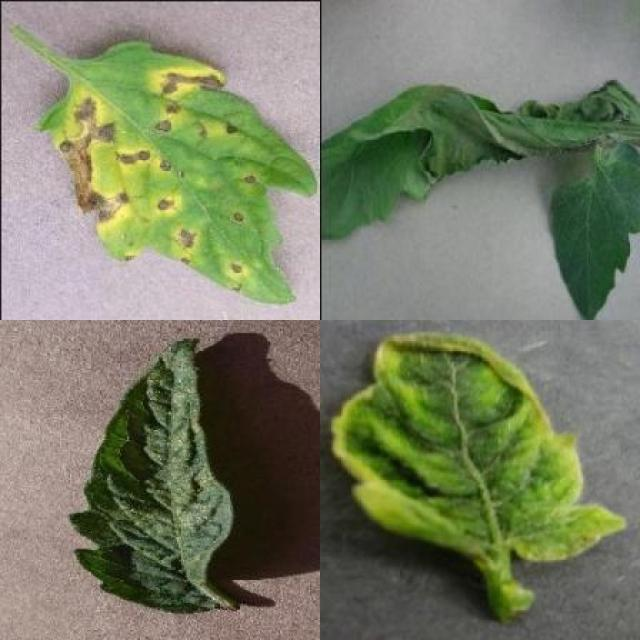Healthy: (544, 143, 640, 320)
Late Blight: (320, 81, 640, 242)
Septoria: (39, 36, 315, 306)
Spider Mites: (72, 339, 235, 614)
Yellow Leaf Curl Virus: (334, 330, 630, 564)
